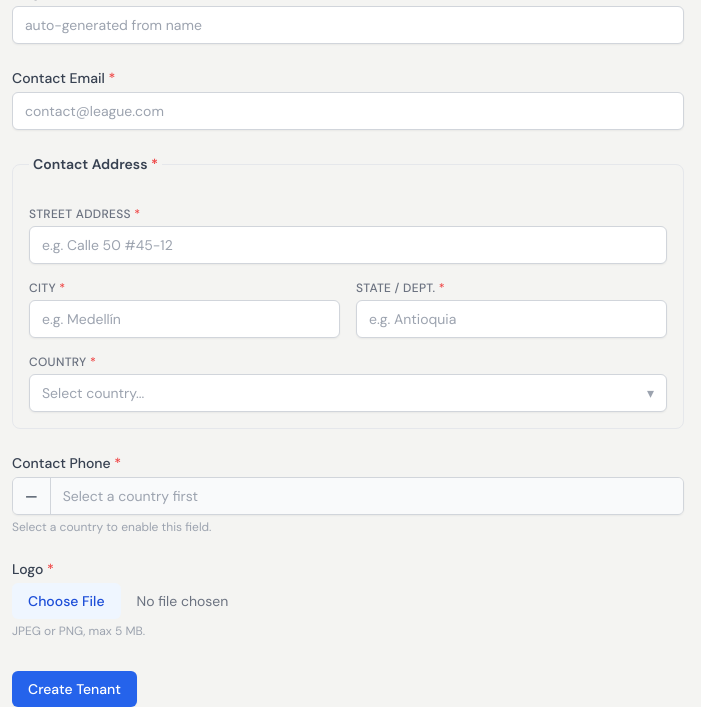
Test: TenantForm › shows validation errors for empty required fields
The width and height of the screenshot is (701, 707).
(page scrolled)
Click the button "Create Tenant" at (74,689), box top-left (12, 671), bottom-right (137, 706)
(page scrolled)
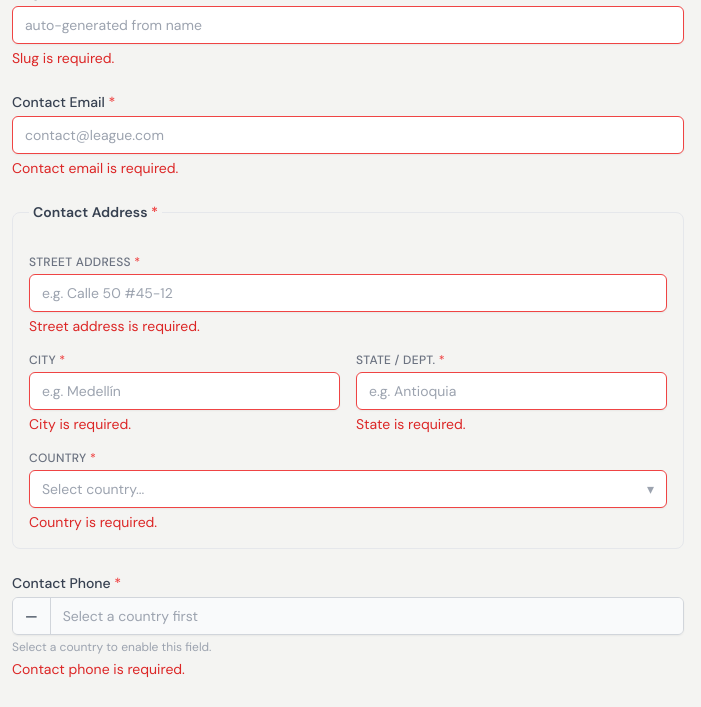
expect the text "Contact email is required." is shown: met, box top-left (12, 159), bottom-right (178, 177)
